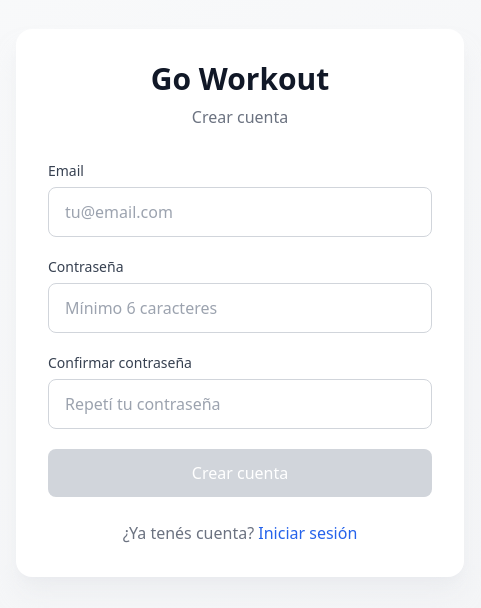
Test: RegistroPage › Validación de Password › muestra error cuando las contraseñas no coinciden
Type "password123" into the password field labelled "Contraseña" at [240, 308], box [48,283,432,333]
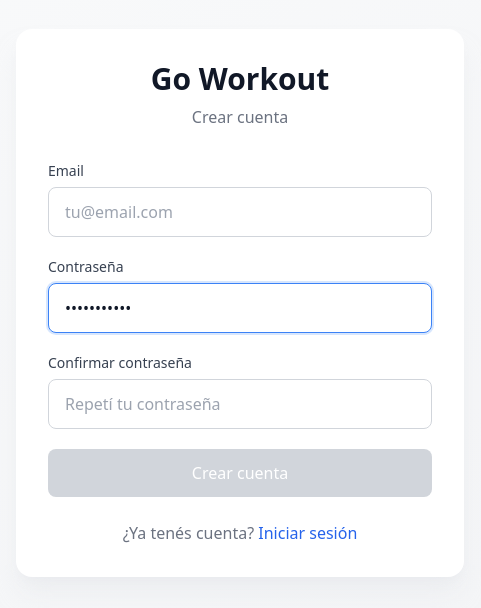
Type "password456" into the password field labelled "Confirmar contraseña" at [240, 404], box [48,379,432,429]
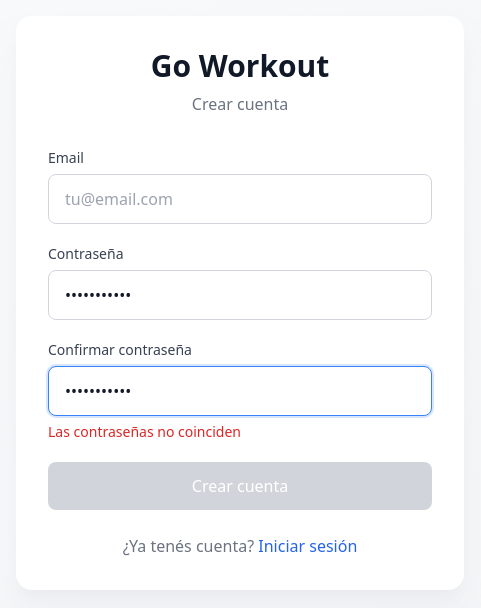
Check: the text "Las contraseñas no coinciden" is shown, box [48,422,241,441]
